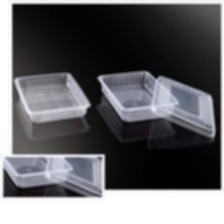plastic_box: (92, 65, 220, 141), (12, 67, 95, 128), (3, 154, 101, 197)
